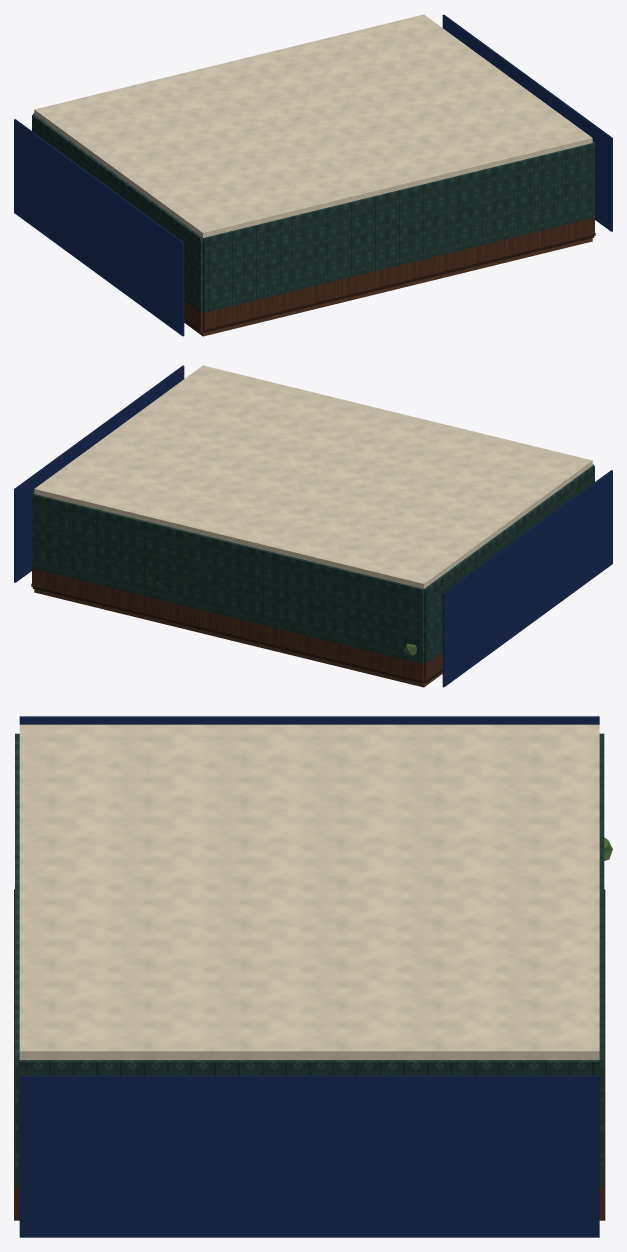
File: lobby.glb
3 renders of one model, top to bottom at view 1: azimuth 30°, elevation 25°; view 2: azimuth 150°, elevation 25°; view 3: azimuth 270°, elevation 25°, orthographic. The views are drawn at different scales.
Parts seen in each view (by area): view 1: S_0_0, S_0_m1, S_m2_0, S_1_0, S_m1_m1, S_m1_0; view 2: S_0_0, S_m2_0, S_1_0, S_m1_0, S_m1_m1; view 3: S_0_0, S_1_0, S_m2_0, S_1_m1, S_0_m1.
Part boxes in pixels (bbox=[...]): S_0_0: bbox=[33, 14, 592, 336]; S_0_m1: bbox=[203, 143, 594, 332]; S_m2_0: bbox=[14, 119, 184, 336]; S_1_0: bbox=[442, 14, 612, 231]; S_m1_m1: bbox=[146, 198, 204, 331]; S_m1_0: bbox=[32, 114, 302, 214]; S_0_0: bbox=[32, 365, 592, 687]; S_m2_0: bbox=[426, 470, 612, 687]; S_1_0: bbox=[14, 365, 184, 586]; S_m1_0: bbox=[324, 505, 540, 682]; S_m1_m1: bbox=[539, 465, 594, 521]; S_0_0: bbox=[19, 724, 605, 1220]; S_1_0: bbox=[19, 1060, 599, 1237]; S_m2_0: bbox=[19, 716, 599, 724]; S_1_m1: bbox=[19, 1060, 206, 1075]; S_0_m1: bbox=[14, 733, 19, 1220].
Size of the model in its own units: 26.5 by 6.09 by 18.6.
44 materials, 11 textured.
